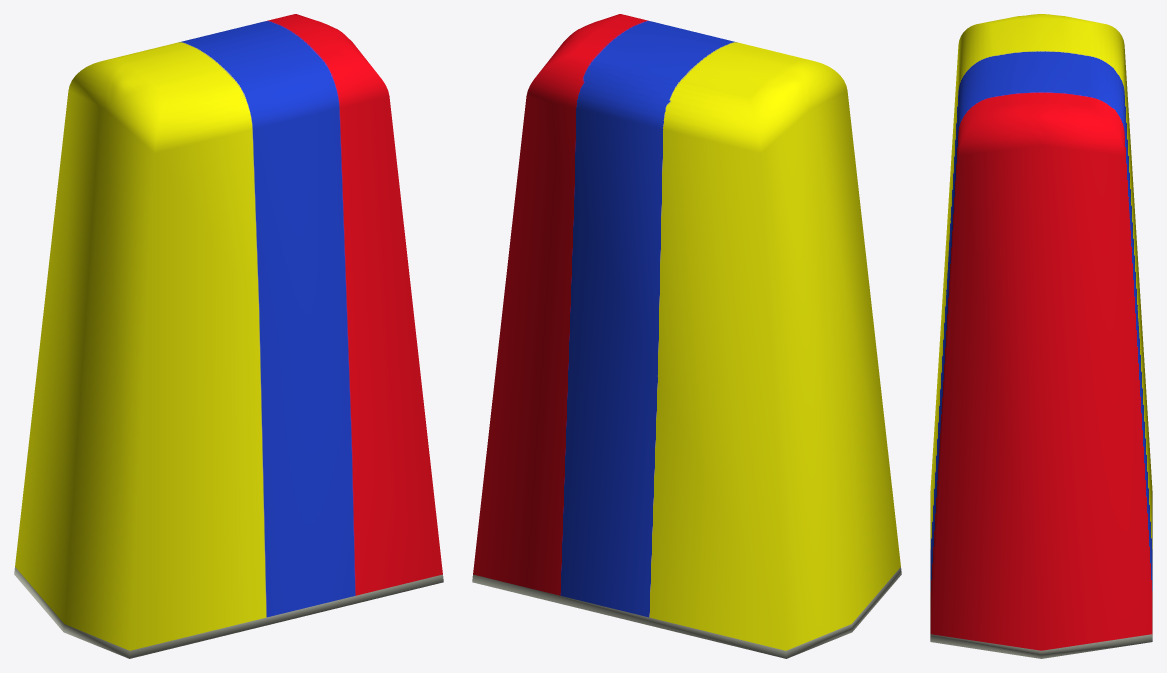
File: camapana-colombiav1test.glb
The picture shows the model from 3 angles, left to right: view 1: azimuth 30°, elevation 25°; view 2: azimuth 150°, elevation 25°; view 3: azimuth 270°, elevation 25°; orthographic projection. The views are drawn at different scales.
Parts seen in each view (by area): view 1: CAMAPAN BASE UV CORRECTO.003; view 2: CAMAPAN BASE UV CORRECTO.003; view 3: CAMAPAN BASE UV CORRECTO.003.
Boxes of the visible parts, x1,y1,x2,y2 form: CAMAPAN BASE UV CORRECTO.003: (14,14,443,658); CAMAPAN BASE UV CORRECTO.003: (472,14,901,658); CAMAPAN BASE UV CORRECTO.003: (930,14,1152,658).
Size of the model in its own units: 0.1263 by 0.1971 by 0.0763.
Materials: 3 (2 with a texture image).
